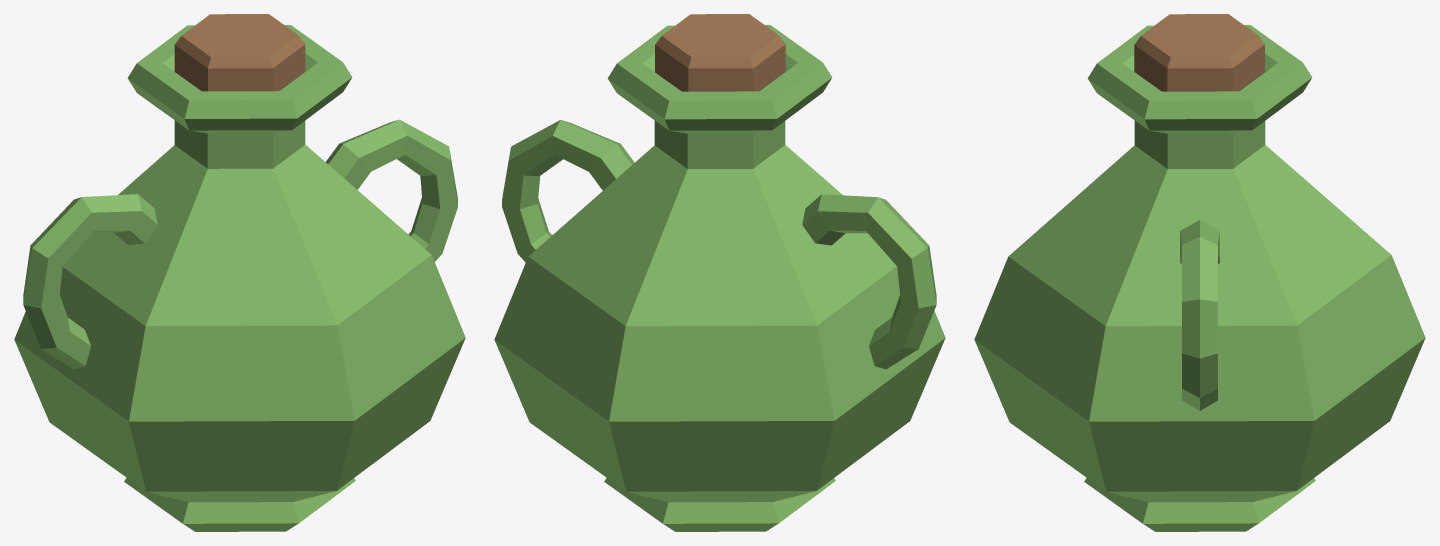
Rendered from Green_Potion_16.fbx.
3 renders of one model, left to right at view 1: azimuth 30°, elevation 25°; view 2: azimuth 150°, elevation 25°; view 3: azimuth 270°, elevation 25°, orthographic.
Parts seen in each view (by area): view 1: Green_Potion_16; view 2: Green_Potion_16; view 3: Green_Potion_16.
Boxes of the visible parts, x1=… form: Green_Potion_16: x1=14, y1=14, x2=465, y2=531; Green_Potion_16: x1=494, y1=14, x2=945, y2=531; Green_Potion_16: x1=974, y1=14, x2=1425, y2=531.
Bounding box in the file's own units: 22.59 × 23 × 20.32.
